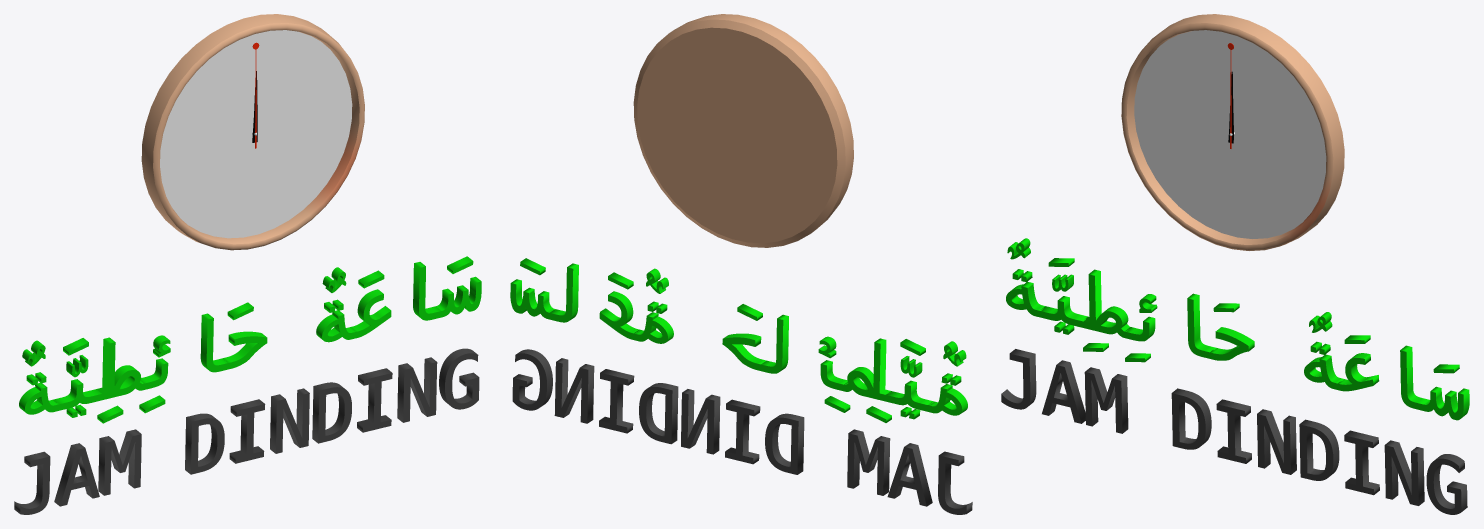
Rendered from BGE_Clock.fbx.
3 views of the same model, side by side, from view 1: azimuth 30°, elevation 25°; view 2: azimuth 150°, elevation 25°; view 3: azimuth 330°, elevation 25° (orthographic).
Parts seen in each view (by area): view 1: Circle.016, Teks.010, Teks; view 2: Circle.016, Teks.010, Teks; view 3: Circle.016, Teks.010, Teks.
Boxes of the visible parts, box(x1,y1,x2,y2) form: Circle.016: box(141, 14, 364, 250); Teks.010: box(14, 348, 479, 514); Teks: box(19, 262, 481, 417); Circle.016: box(633, 14, 853, 247); Teks.010: box(512, 349, 972, 514); Teks: box(510, 263, 967, 419); Circle.016: box(1121, 14, 1344, 250); Teks.010: box(1001, 349, 1467, 514); Teks: box(1006, 269, 1469, 420).
Bounding box in the file's own units: 902 × 826 × 50.16.
